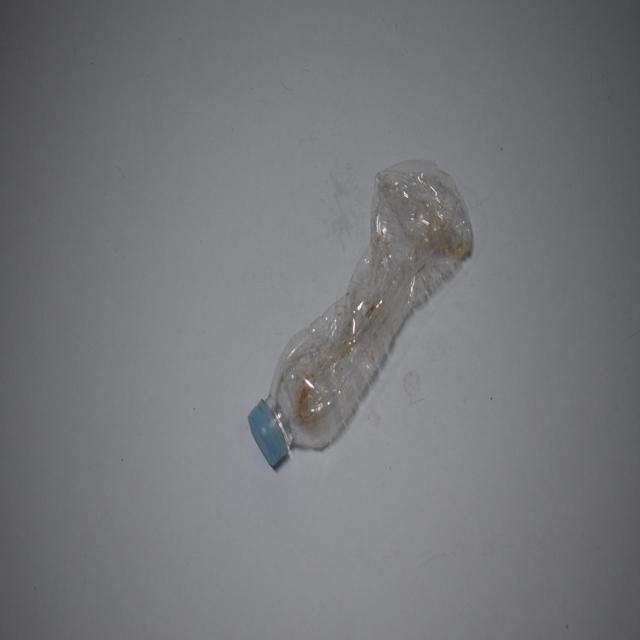empty: (248, 160, 472, 465)
